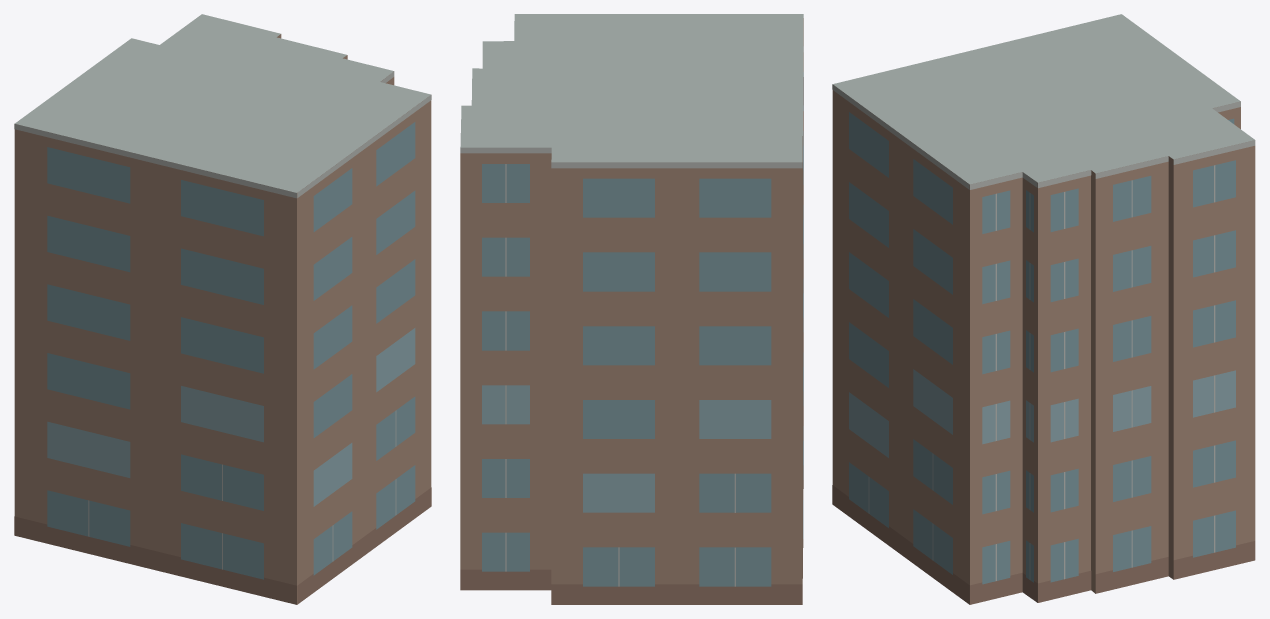
File: survey-upis-32744575.glb
3 renders of one model, left to right at view 1: azimuth 30°, elevation 25°; view 2: azimuth 150°, elevation 25°; view 3: azimuth 270°, elevation 25°, orthographic. The views are drawn at different scales.
Visible parts, largest first — view 1: survey-upis-32744575.tmp; view 2: survey-upis-32744575.tmp; view 3: survey-upis-32744575.tmp.
Part boxes in pixels (x1,y1,x2,y2): survey-upis-32744575.tmp: (14,14,431,604); survey-upis-32744575.tmp: (460,14,803,604); survey-upis-32744575.tmp: (832,14,1255,604).
Bounding box in the file's own units: 15.94 × 18.3 × 16.69.
